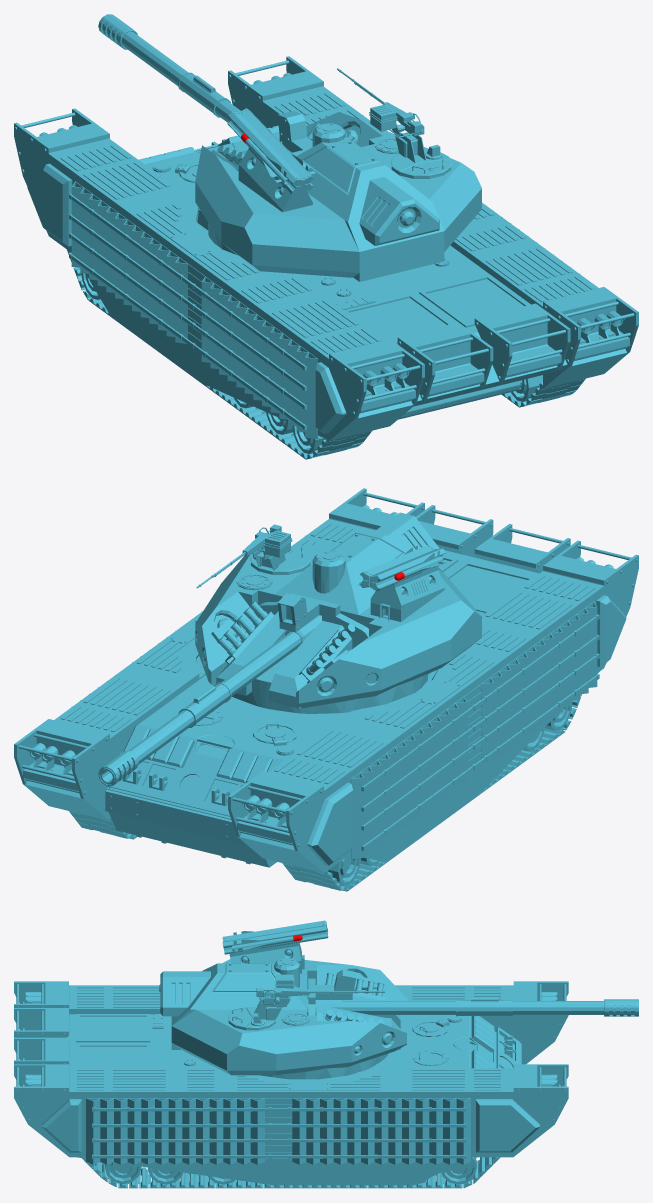
3 renders of one model, top to bottom at view 1: azimuth 30°, elevation 25°; view 2: azimuth 150°, elevation 25°; view 3: azimuth 270°, elevation 25°, orthographic. The views are drawn at different scales.
Parts seen in each view (by area): view 1: 3dSolid; view 2: 3dSolid; view 3: 3dSolid.
Part boxes in pixels (box(x1,y1,x2,y2)): 3dSolid: box(14, 14, 638, 459); 3dSolid: box(14, 488, 638, 891); 3dSolid: box(14, 920, 638, 1188).
Bounding box in the file's own units: 119 × 92.52 × 276.
